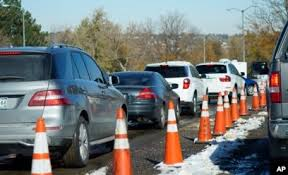car: (1, 45, 129, 163), (106, 70, 181, 125), (145, 60, 211, 110)
cone: (111, 108, 133, 173), (29, 120, 52, 175), (163, 100, 181, 165), (197, 95, 211, 142), (213, 93, 226, 133), (222, 90, 233, 126), (237, 87, 249, 114), (231, 88, 238, 122)
